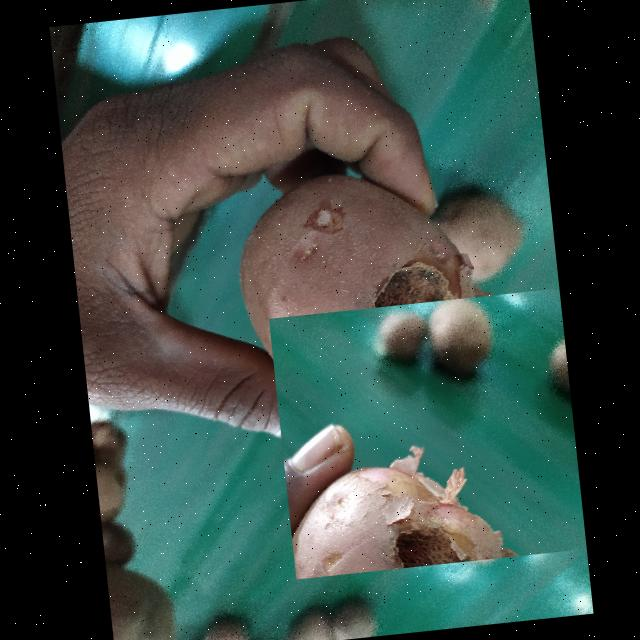Diseased-fungal potato: (268, 287, 598, 579)
